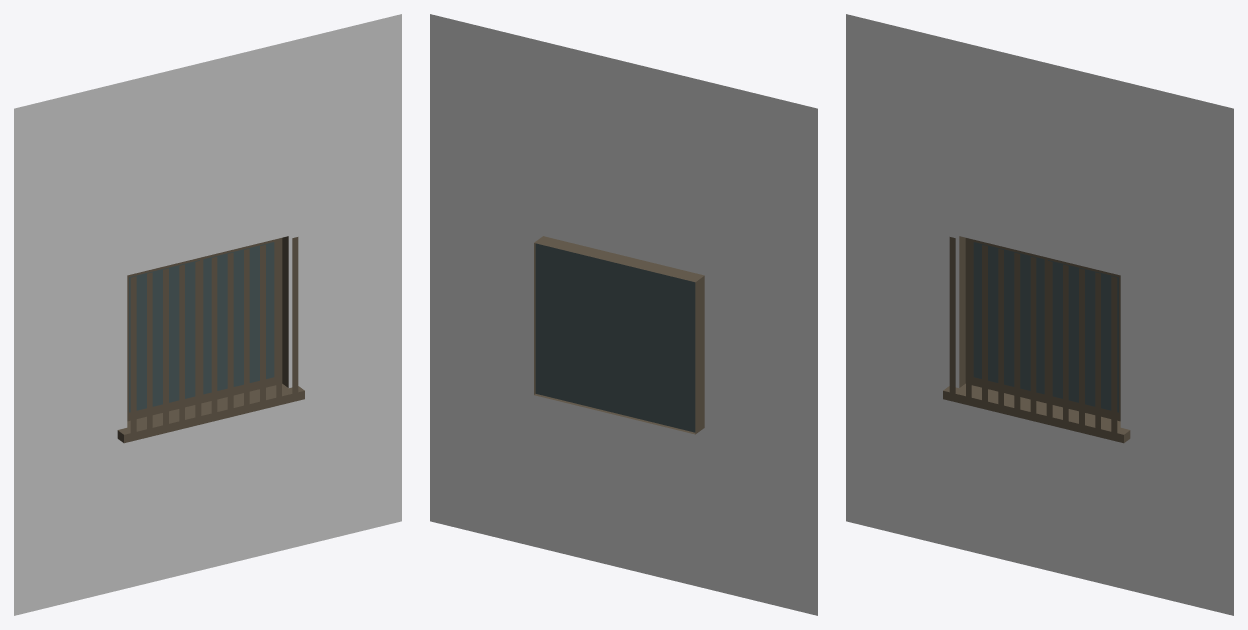
The model's file is top-w3.fbx.
The picture shows the model from 3 angles, left to right: view 1: azimuth 30°, elevation 25°; view 2: azimuth 150°, elevation 25°; view 3: azimuth 330°, elevation 25°; orthographic projection.
Parts seen in each view (by area): view 1: a2015/800/top-w3; view 2: a2015/800/top-w3; view 3: a2015/800/top-w3.
Boxes of the visible parts, x1,y1,x2,y2 form: a2015/800/top-w3: (14,14,401,615); a2015/800/top-w3: (430,14,817,615); a2015/800/top-w3: (846,14,1233,615).
Size of the model in its own units: 2.4 by 3 by 0.17.
